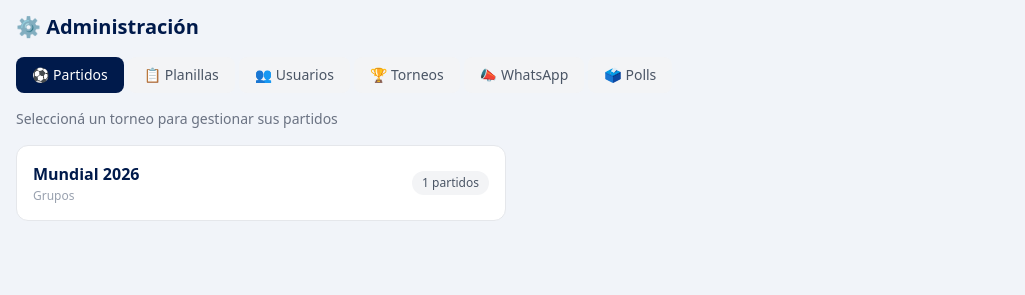
Scenario: Admin — PartidosTab › publicar resultado: muestra "Corregir" para partidos finalizados
What coordinates should you click on to do the following:
click the text "Mundial 2026"
I would click on:
 (86, 174)
Its box is left=33, top=162, right=139, bottom=186.
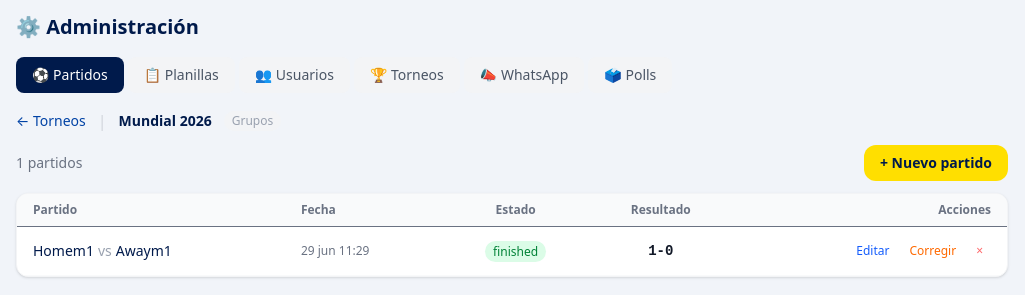
Expected: the button "Corregir" is shown, left=901, top=239, right=964, bottom=263
